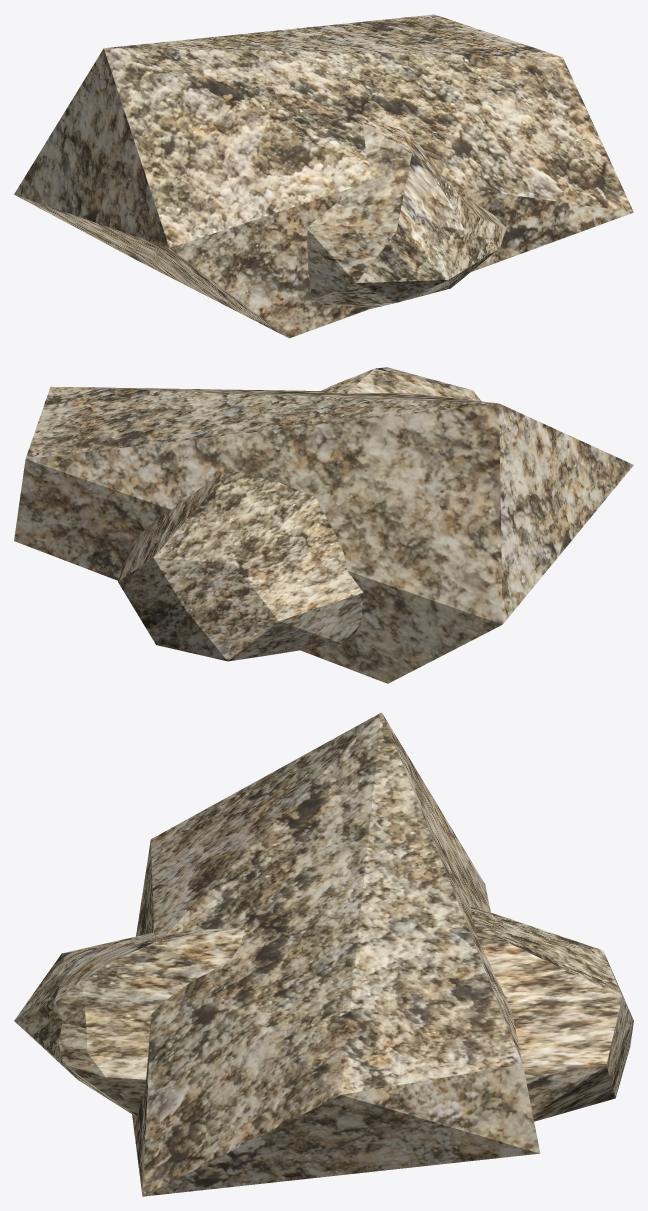
Rendered from Rocks.fbx.
The picture shows the model from 3 angles, top to bottom: view 1: azimuth 30°, elevation 25°; view 2: azimuth 150°, elevation 25°; view 3: azimuth 270°, elevation 25°; orthographic projection. The views are drawn at different scales.
Visible parts, largest first — view 1: Rock_1, Rock_3; view 2: Rock_1, Rock_3; view 3: Rock_1, Rock_3.
Part boxes in pixels (box(x1,y1,x2,y2)): Rock_1: box(14, 14, 633, 338); Rock_3: box(307, 122, 506, 308); Rock_1: box(14, 386, 633, 683); Rock_3: box(118, 367, 480, 661); Rock_1: box(132, 712, 540, 1196); Rock_3: box(14, 905, 633, 1121).
Bounding box in the file's own units: 273 × 136 × 251.
